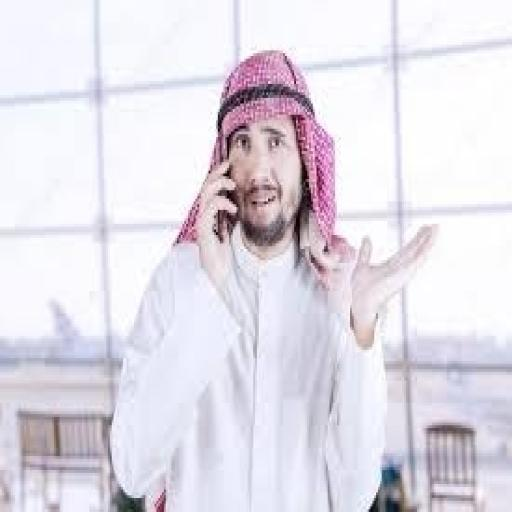calling: (106, 48, 438, 509)
